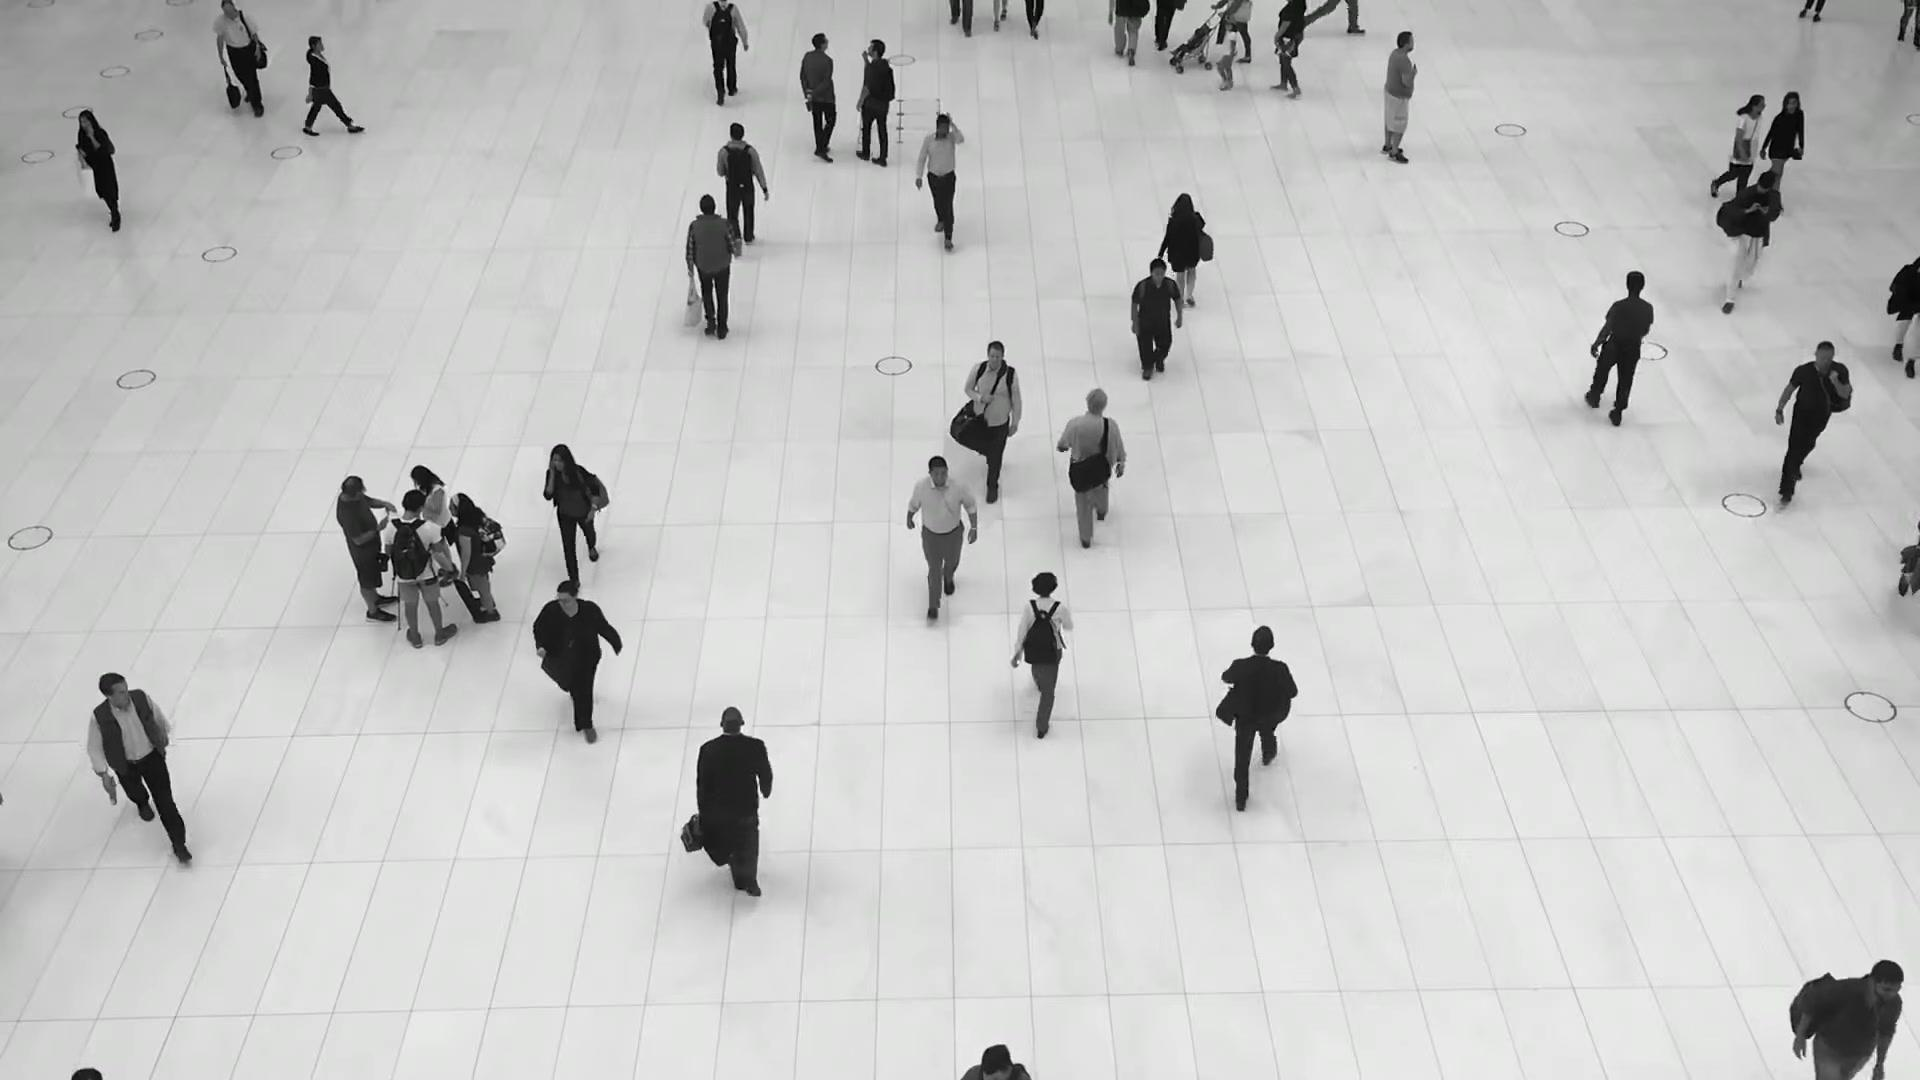person: (86, 672, 193, 864), (1215, 624, 1298, 811), (694, 707, 773, 897), (532, 580, 622, 744), (1792, 958, 1905, 1080), (1774, 340, 1852, 505), (383, 489, 458, 651), (906, 456, 977, 620), (1057, 388, 1126, 548), (1584, 270, 1653, 426), (1010, 570, 1073, 740), (336, 474, 400, 629), (1716, 171, 1782, 314), (543, 443, 609, 581), (965, 341, 1022, 503), (683, 193, 738, 339), (448, 492, 502, 624), (301, 34, 366, 136), (914, 112, 964, 245), (211, 0, 268, 117), (1157, 193, 1214, 305), (715, 122, 768, 244), (1130, 258, 1183, 380), (409, 464, 459, 588), (76, 109, 127, 230), (1710, 93, 1766, 198), (1381, 28, 1419, 164), (856, 38, 895, 166), (702, 0, 748, 105), (799, 33, 836, 163), (1759, 91, 1804, 189), (1270, 0, 1306, 98), (1215, 19, 1237, 91)
